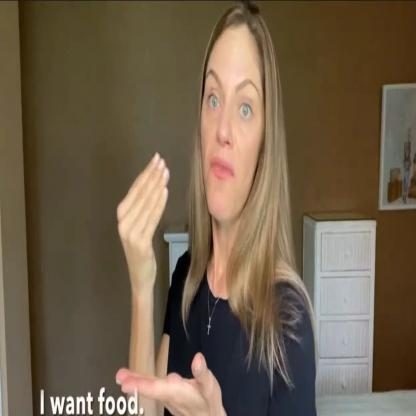Food: (118, 1, 278, 284)
